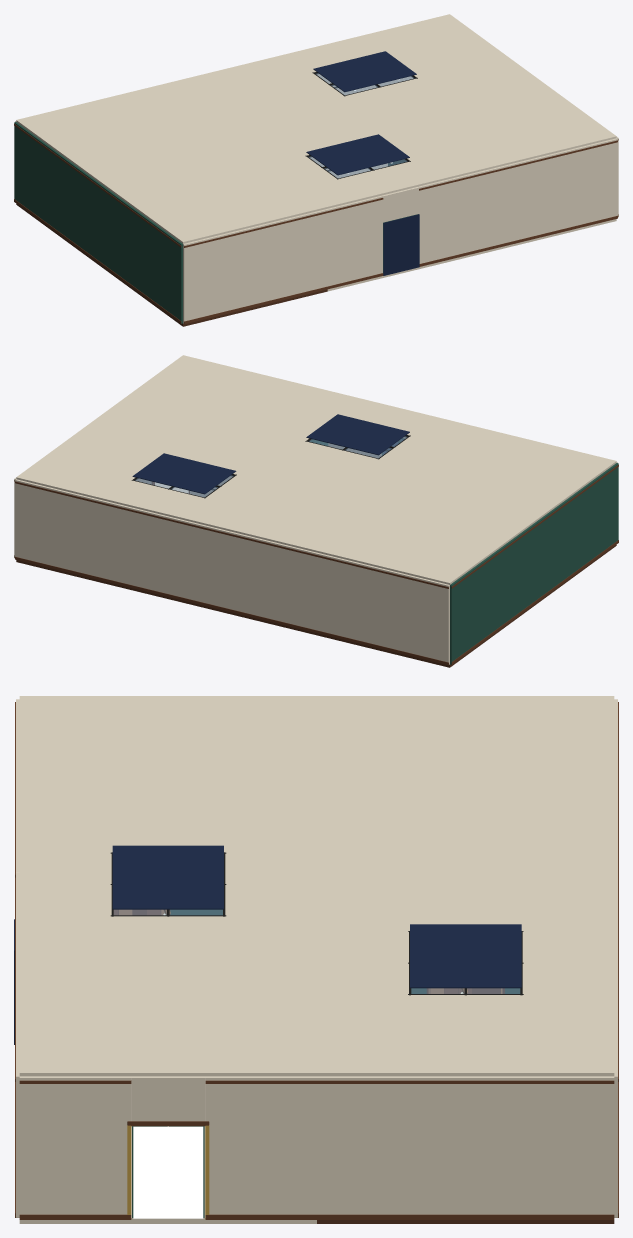
The model's file is S0_shell.glb.
3 renders of one model, top to bottom at view 1: azimuth 30°, elevation 25°; view 2: azimuth 150°, elevation 25°; view 3: azimuth 270°, elevation 25°, orthographic. The views are drawn at different scales.
Visible parts, largest first — view 1: S0_3_static, S0_2_static, S0_4_static, S0_5_static, S0_1_static; view 2: S0_3_static, S0_2_static, S0_4_static, S0_1_static; view 3: S0_3_static, S0_2_static, EMIT_exitPortal, S0_4_static, S0_1_static, S0_6_static.
Part boxes in pixels (bbox=[...]): S0_3_static: bbox=[16, 14, 616, 243]; S0_2_static: bbox=[14, 74, 618, 323]; S0_4_static: bbox=[14, 123, 618, 324]; S0_5_static: bbox=[383, 214, 419, 275]; S0_1_static: bbox=[16, 204, 616, 326]; S0_3_static: bbox=[16, 355, 616, 584]; S0_2_static: bbox=[14, 437, 618, 664]; S0_4_static: bbox=[14, 464, 618, 665]; S0_1_static: bbox=[16, 482, 616, 667]; S0_3_static: bbox=[19, 696, 614, 1076]; S0_2_static: bbox=[16, 699, 617, 1217]; EMIT_exitPortal: bbox=[133, 1126, 203, 1218]; S0_4_static: bbox=[15, 702, 618, 1219]; S0_1_static: bbox=[19, 909, 614, 1223]; S0_6_static: bbox=[127, 1121, 209, 1219].
Size of the model in its own units: 24.24 by 4.7 by 16.27.
